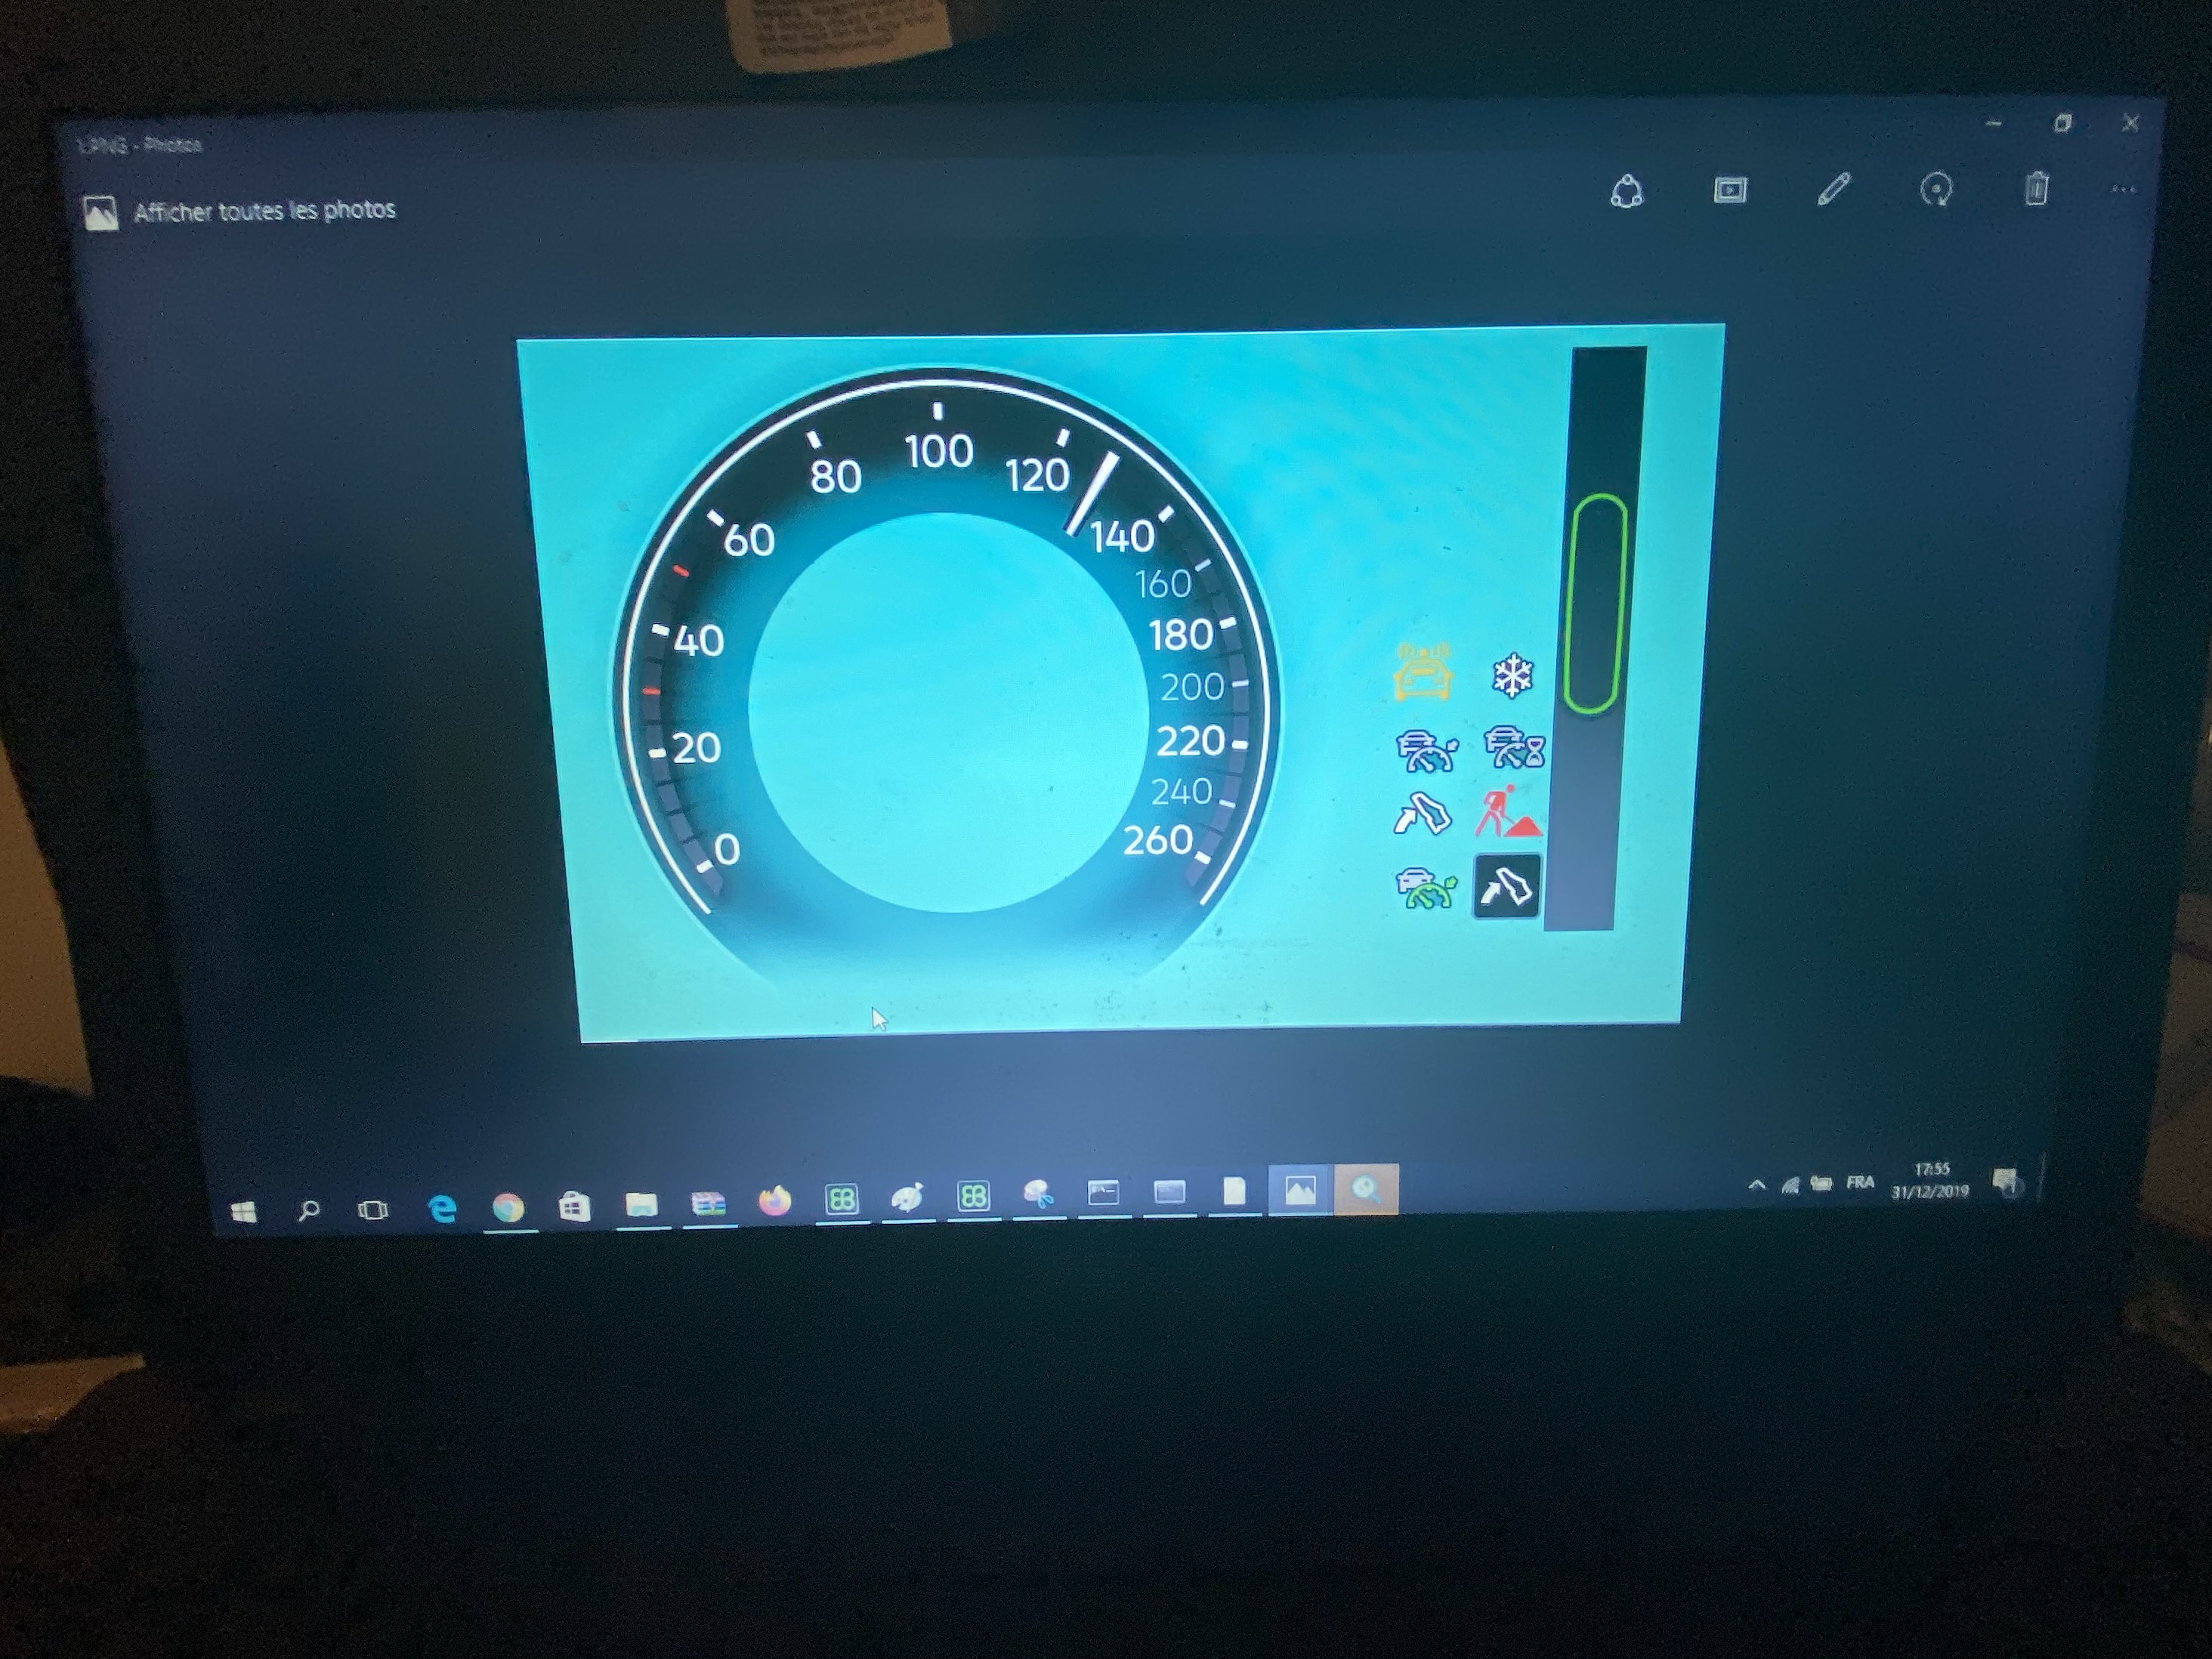ACCELERATOR: (1386, 789, 1472, 847)
ACCELERATOR_R: (1470, 849, 1543, 922)
ACC_AKTIV: (1386, 718, 1475, 781)
ACC_OVER: (1390, 861, 1467, 915)
ACC_WAITING: (1480, 723, 1545, 774)
CONSTRUCTION: (1479, 784, 1548, 845)
EISSTERN: (1486, 636, 1548, 711)
SEV_INF: (1367, 631, 1470, 713)
SLIDER: (1561, 488, 1634, 721)
TUBE: (561, 355, 1312, 1033)
